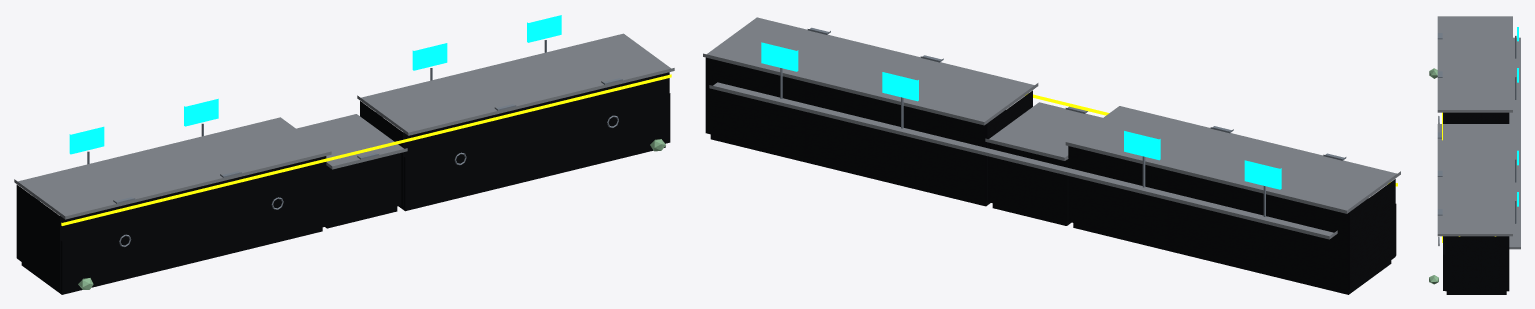
File: v4_river_desk.glb
3 renders of one model, left to right at view 1: azimuth 30°, elevation 25°; view 2: azimuth 150°, elevation 25°; view 3: azimuth 270°, elevation 25°, orthographic. The views are drawn at different scales.
Parts seen in each view (by area): view 1: Desk_Body_L, Desk_Body_R, Desk_Top_R, Desk_Top_L, Desk_Body_A, Desk_Top_A, Staff_Screens, Court_Line_LED; view 2: Desk_Body_L, Desk_Body_R, Desk_Top_R, Desk_Top_L, Staff_Ledge, Desk_Body_A, Desk_Top_A, Staff_Screens; view 3: Desk_Top_L, Desk_Top_R, Desk_Body_R, Staff_Ledge, Desk_Top_A, Desk_Body_L, Staff_Monitor_Arms, Ticket_Pads, End_Tufts, Staff_Screens.
Boxes of the visible parts, x1,y1,x2,y2 form: Desk_Body_L: [16, 156, 327, 294]; Desk_Body_R: [360, 72, 670, 211]; Desk_Top_R: [357, 33, 674, 135]; Desk_Top_L: [14, 117, 331, 219]; Desk_Body_A: [325, 153, 401, 228]; Desk_Top_A: [296, 114, 407, 169]; Staff_Screens: [69, 15, 561, 154]; Court_Line_LED: [61, 74, 671, 225]; Desk_Body_L: [1068, 146, 1396, 294]; Desk_Body_R: [705, 57, 1032, 206]; Desk_Top_R: [703, 17, 1038, 125]; Desk_Top_L: [1065, 106, 1400, 213]; Staff_Ledge: [709, 82, 1337, 239]; Desk_Body_A: [988, 142, 1071, 225]; Desk_Top_A: [985, 102, 1102, 160]; Staff_Screens: [761, 42, 1281, 189]; Desk_Top_L: [1437, 16, 1512, 112]; Desk_Top_R: [1437, 140, 1512, 236]; Desk_Body_R: [1443, 236, 1509, 294]; Staff_Ledge: [1509, 37, 1520, 249]; Desk_Top_A: [1437, 124, 1512, 140]; Desk_Body_L: [1443, 112, 1509, 123]; Staff_Monitor_Arms: [1515, 36, 1516, 223]; Ticket_Pads: [1437, 33, 1442, 215]; End_Tufts: [1429, 68, 1438, 284]; Staff_Screens: [1517, 27, 1518, 206].
Size of what is drawn, in the model's own units: 8 by 1.4 by 1.41.
Materials: 6 (2 with a texture image).
